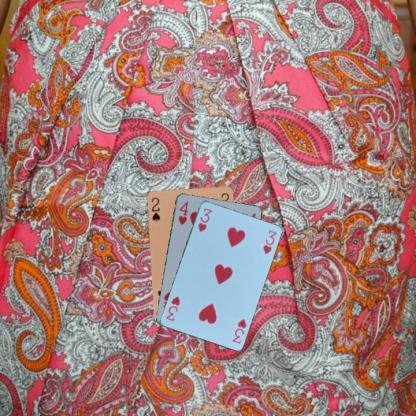2s: (149, 195, 161, 223)
3h: (195, 205, 213, 233), (230, 316, 247, 345)
4h: (176, 199, 189, 226)
